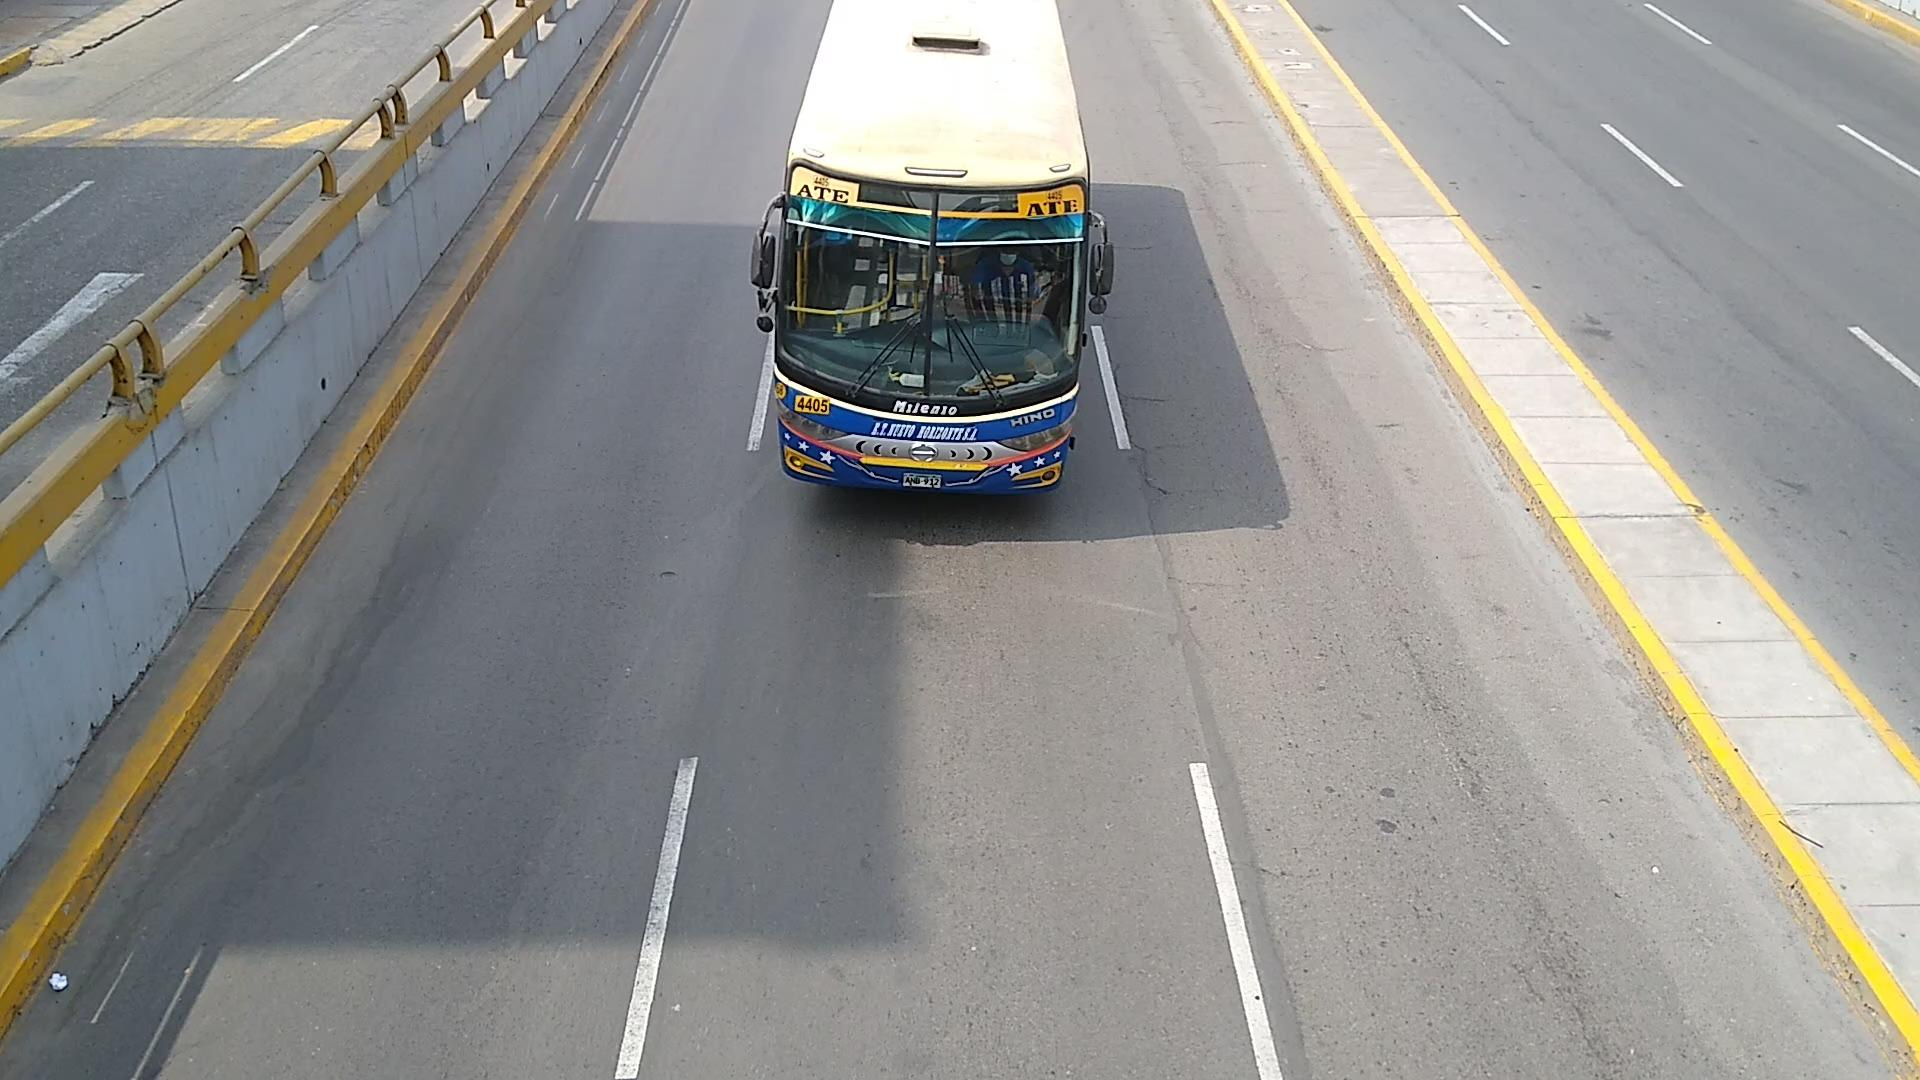car: (0, 0, 476, 426)
